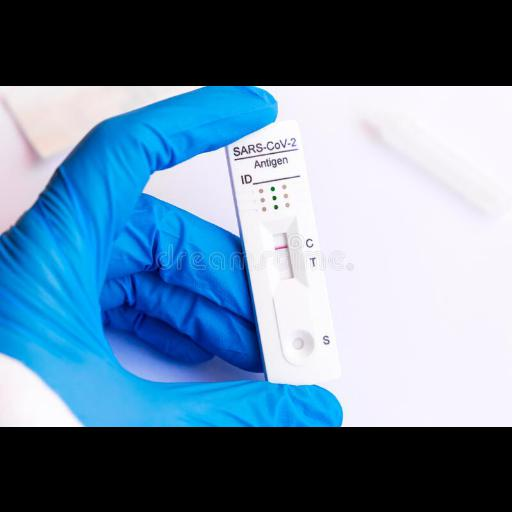Neg: (223, 117, 342, 387)
